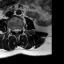CCS_normal: (15, 25, 17, 35)
LFS_normal: (19, 25, 22, 33)
LLS_normal: (17, 25, 19, 34)
RFS_normal: (11, 25, 13, 33)
RLS_normal: (13, 26, 15, 34)
